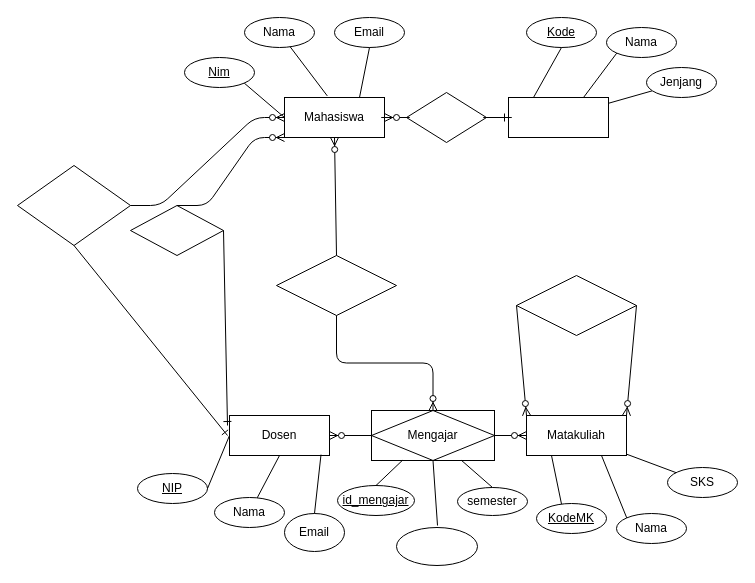
Image size: 755x583. Some labels were removed from this diagram. Here are the shapes that lost their labels. From the top down, the centre of each, then its label:
At pixel 446 117: "memiliki".
At pixel 558 117: "Jurusan".
At pixel 73 205: "Pembimbing skripsi".
At pixel 177 230: "Wali".
At pixel 336 285: "Mengikuti".
At pixel 576 305: "Prasyarat".
At pixel 437 546: "tahun".
